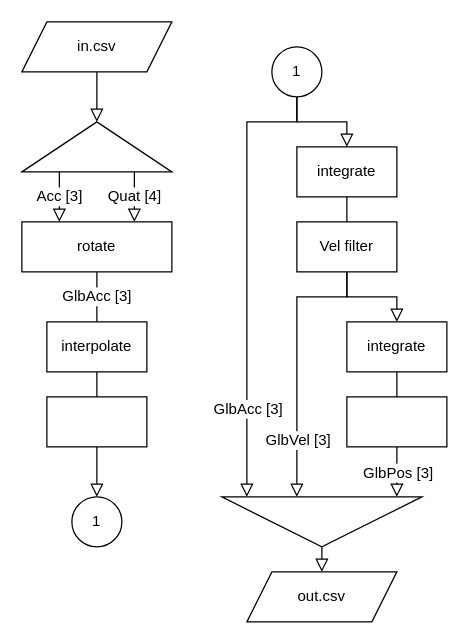
Some shapes in this 469 by 644 pixel diagram are drawn without their labels. Here are the shapes that lost their labels. From the top down, the centre of each, then its label:
the point at 96,146: extract
the point at 96,421: Acc filter
the point at 396,421: Pos filter
the point at 321,521: concat
